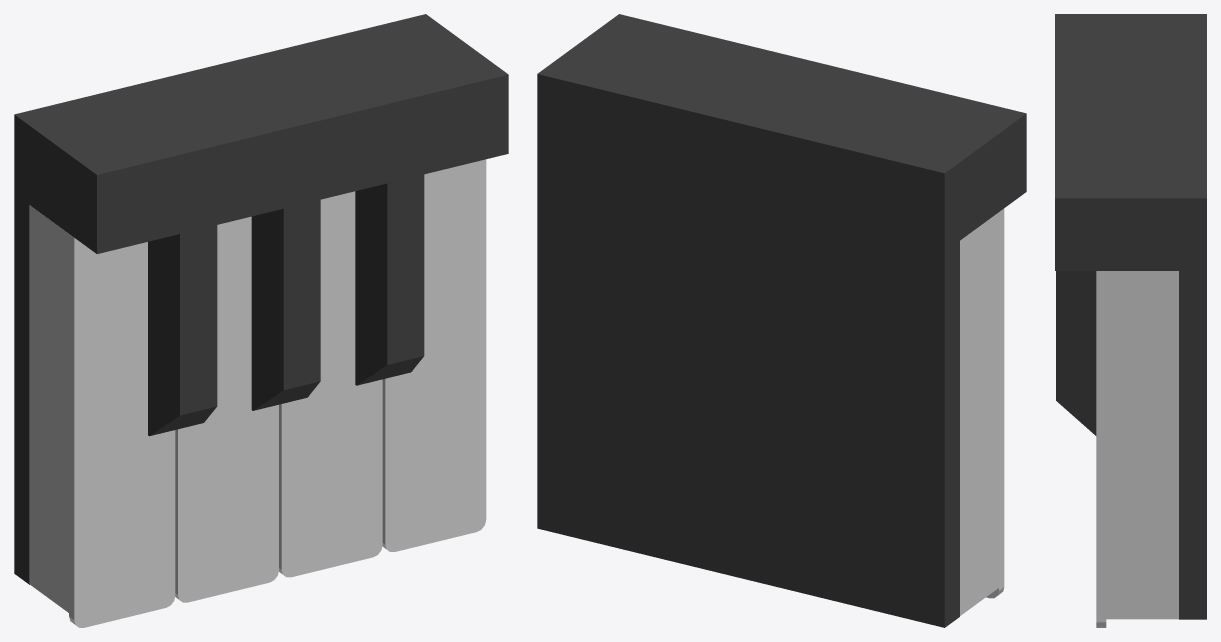
Rendered from musical_keyboard.glb.
3 renders of one model, left to right at view 1: azimuth 30°, elevation 25°; view 2: azimuth 150°, elevation 25°; view 3: azimuth 270°, elevation 25°, orthographic. The views are drawn at different scales.
Parts seen in each view (by area): view 1: Cube.914; view 2: Cube.914; view 3: Cube.914.
Boxes of the visible parts, x1=… form: Cube.914: x1=14, y1=14, x2=508, y2=627; Cube.914: x1=537, y1=14, x2=1026, y2=627; Cube.914: x1=1055, y1=14, x2=1206, y2=627.
Size of the model in its own units: 1.98 by 2.17 by 0.6887.
1 material, 1 textured.
